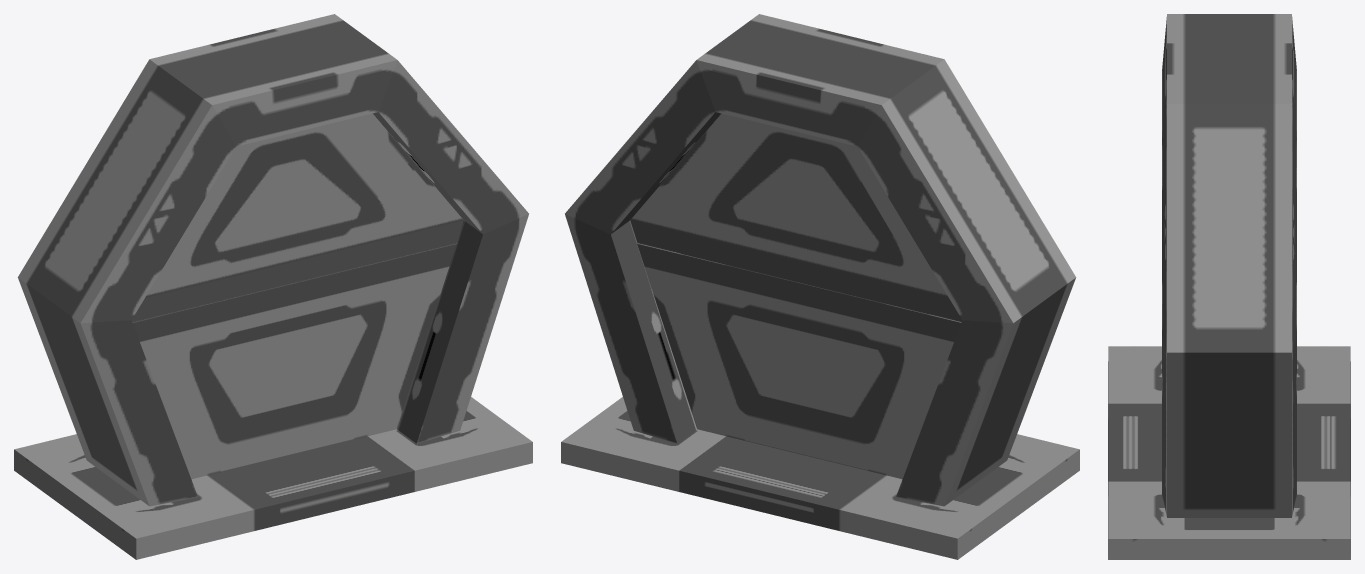
Rendered from DoorFree.fbx.
3 renders of one model, left to right at view 1: azimuth 30°, elevation 25°; view 2: azimuth 150°, elevation 25°; view 3: azimuth 270°, elevation 25°, orthographic.
Parts seen in each view (by area): view 1: door_arch_low_poly, door_lower_low_poly, door_upper_low_poly, door_base_low_poly; view 2: door_arch_low_poly, door_lower_low_poly, door_upper_low_poly, door_base_low_poly; view 3: door_arch_low_poly, door_base_low_poly.
Boxes of the visible parts, x1,y1,x2,y2 form: door_arch_low_poly: [17, 14, 528, 506]; door_lower_low_poly: [133, 244, 456, 479]; door_upper_low_poly: [131, 113, 463, 322]; door_base_low_poly: [14, 397, 532, 559]; door_arch_low_poly: [565, 14, 1076, 506]; door_lower_low_poly: [637, 243, 961, 479]; door_upper_low_poly: [630, 113, 962, 322]; door_base_low_poly: [561, 397, 1079, 559]; door_arch_low_poly: [1162, 14, 1296, 517]; door_base_low_poly: [1108, 346, 1350, 559].
Bounding box in the file's own units: 339 × 294 × 160.
